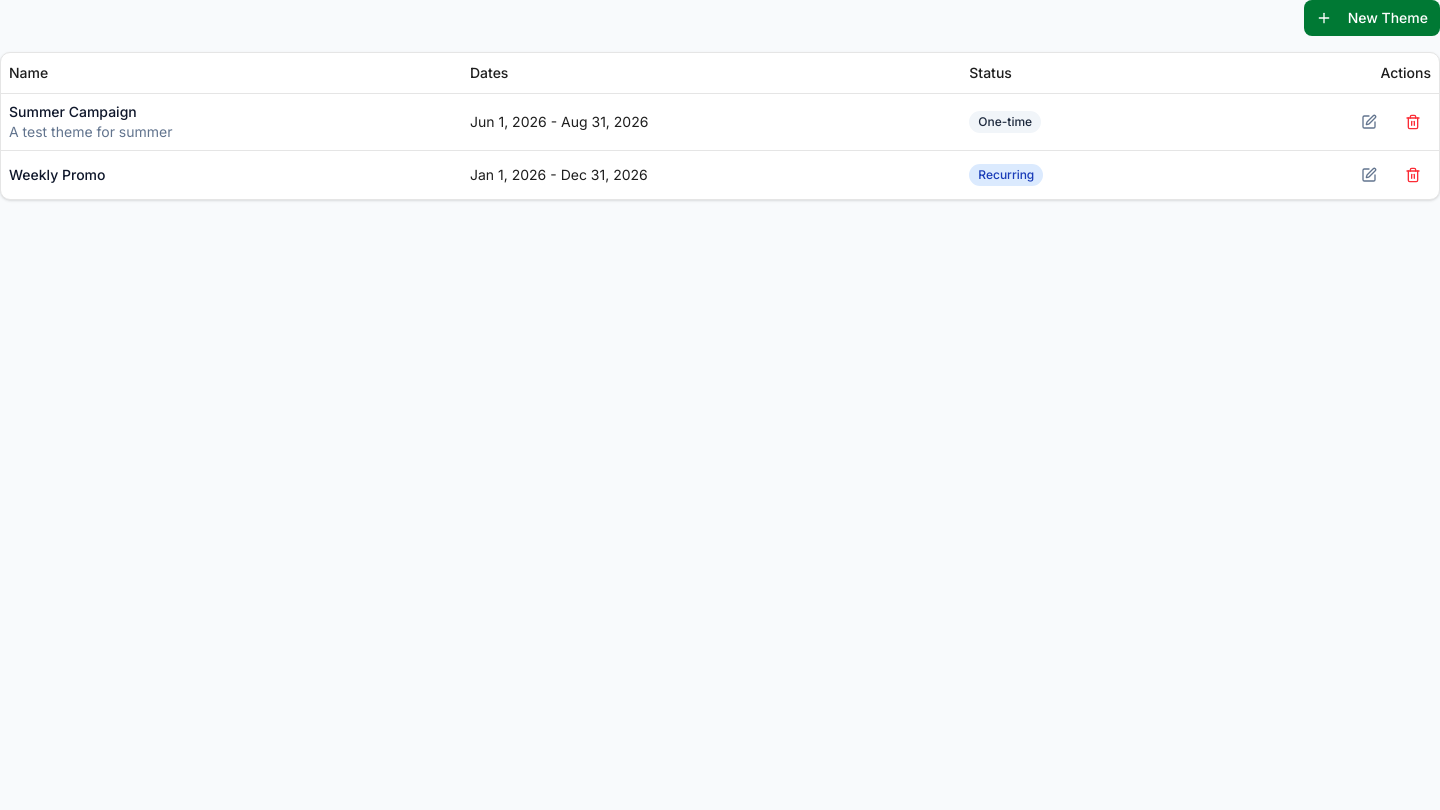
Scenario: ThemeList › opens dialog to edit theme
Click the button named "Edit Theme" in the row of "Summer Campaign" at (1369,122), box [1351,106,1387,138]
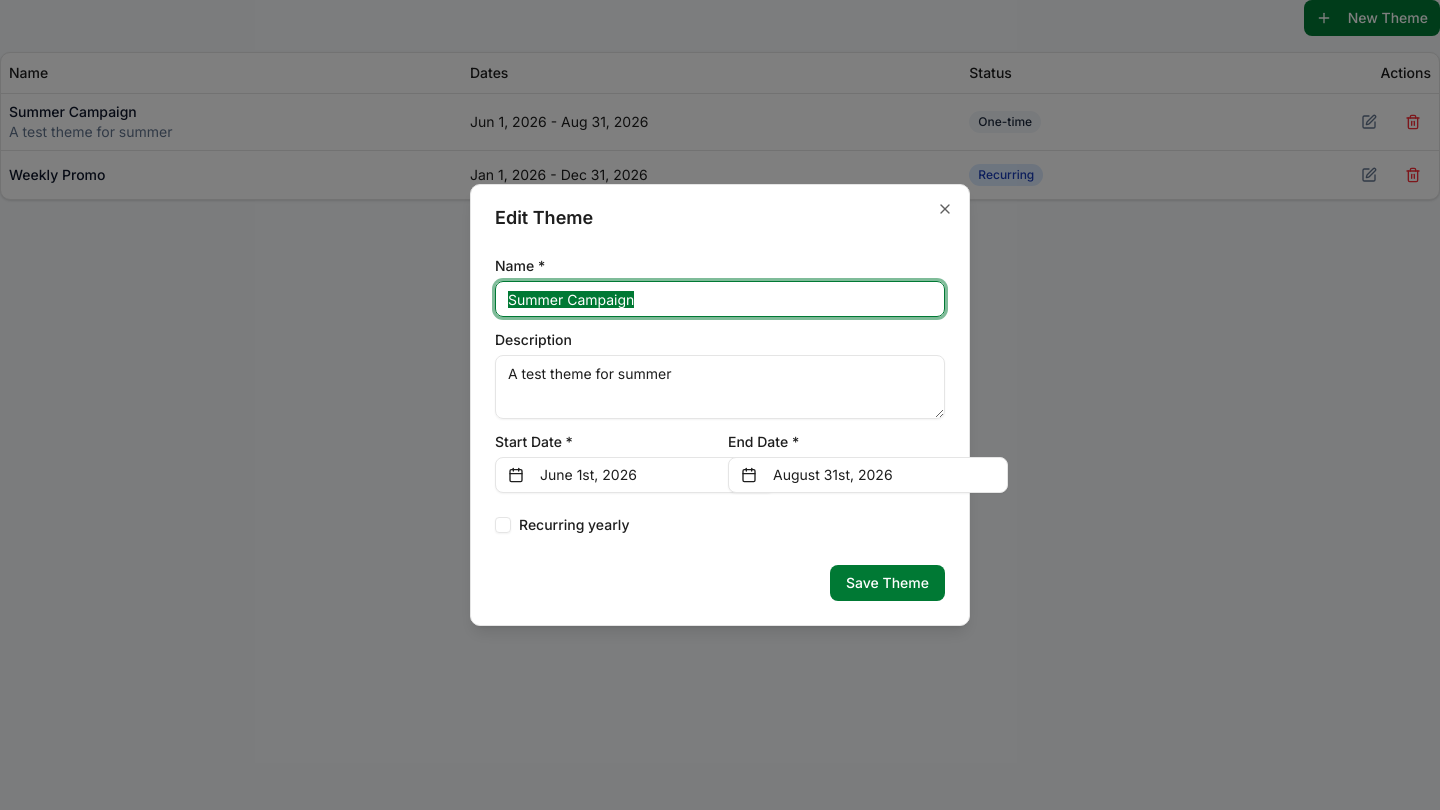
Result: the heading "Edit Theme" is shown at [495,207,593,228]
